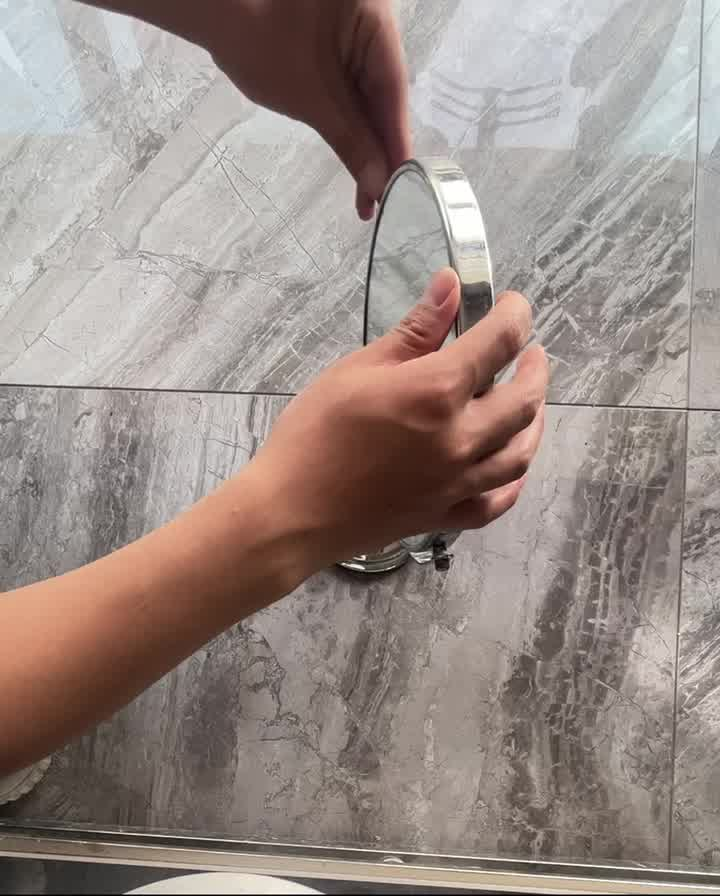mirror: (364, 144, 499, 574)
